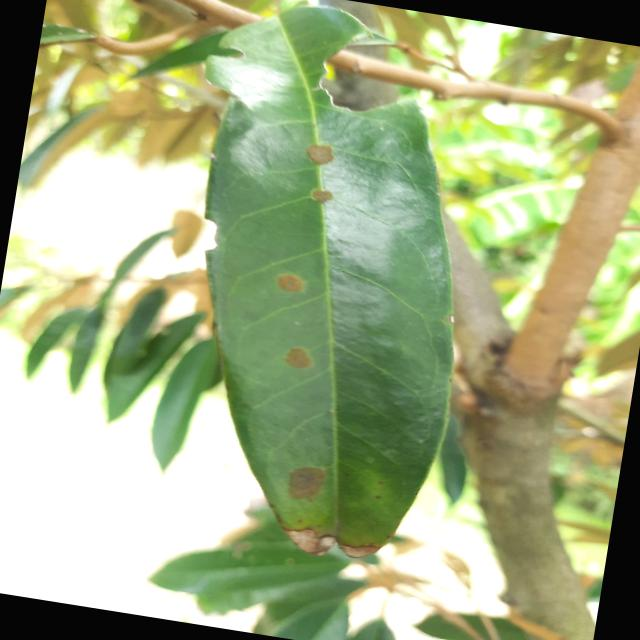Algal Leaf Spot: (121, 0, 526, 593)
